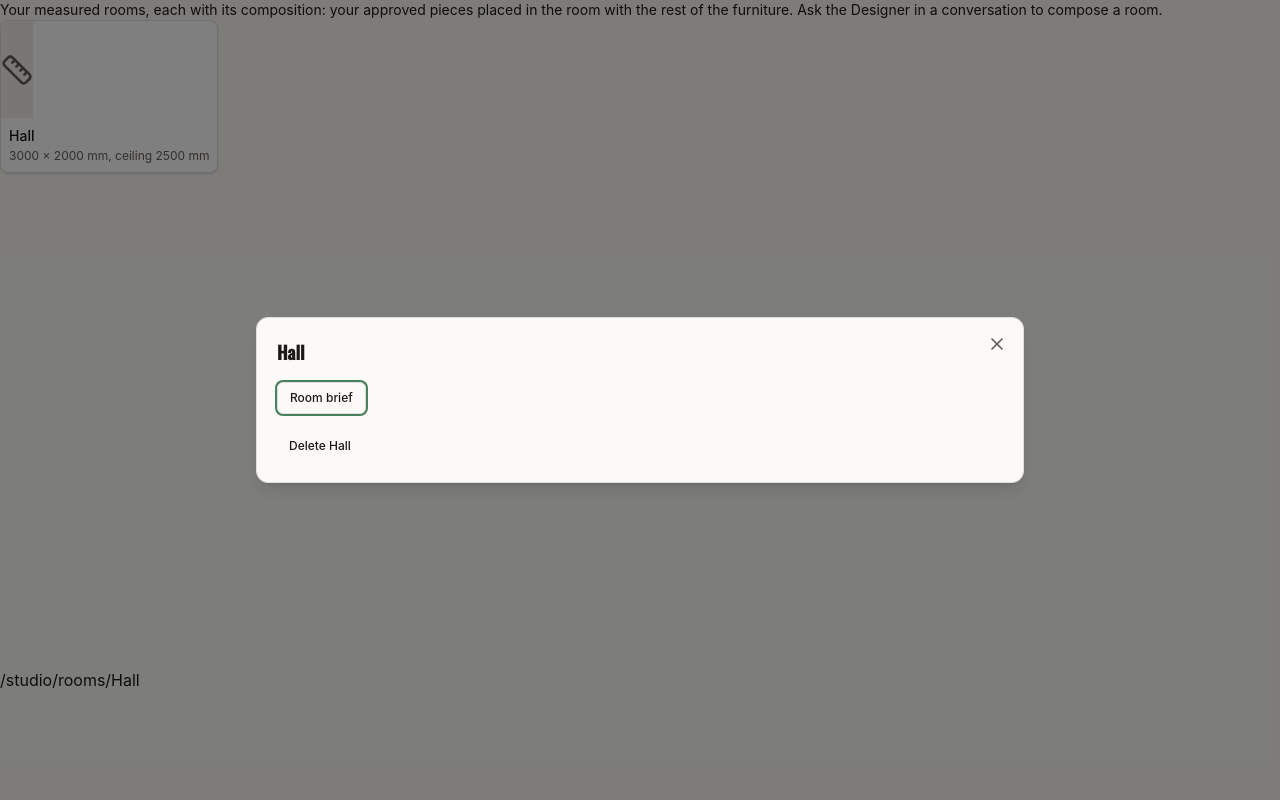
Test: a room brief without pieces says so
Click the button "Room brief": [321, 398] box [277,382,366,414]
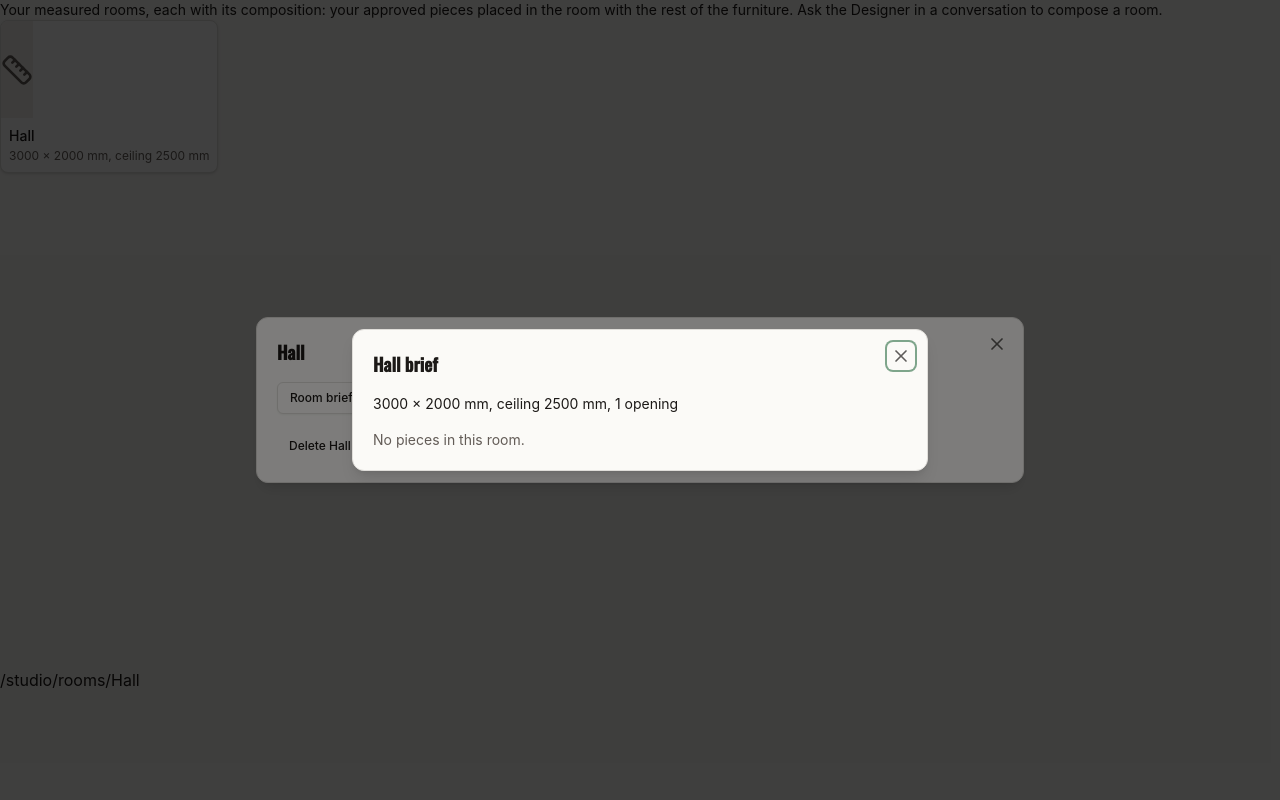
Check: the text "No pieces in this room." is shown, box [373,431,525,448]
